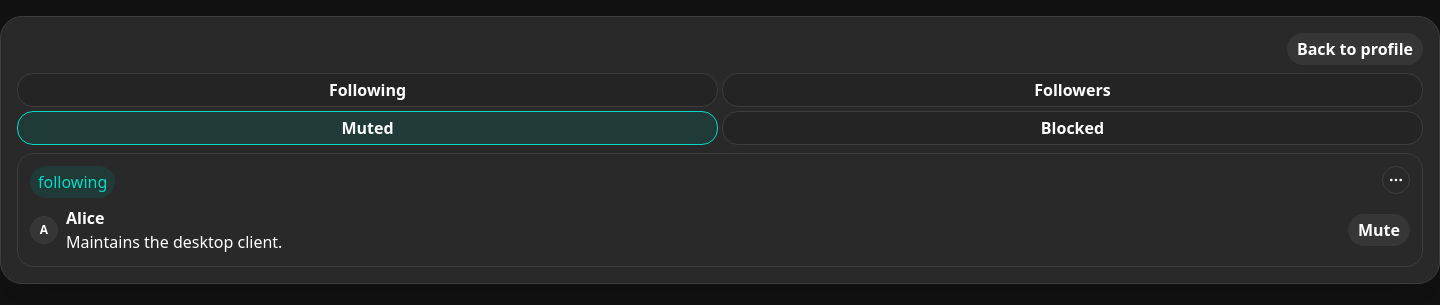
Test: the muted view keeps its own action beside the user information
This screenshot has width=1440, height=305.
Click the button "Mute" at (1379, 230), box [1348,214,1410,246]
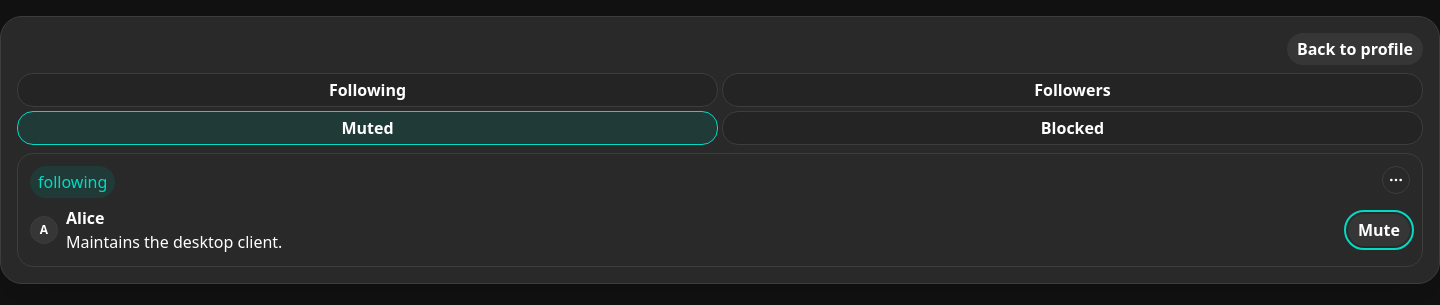
Click the button named "Actions for Alice" at (1396, 180), box [1382,166,1410,194]
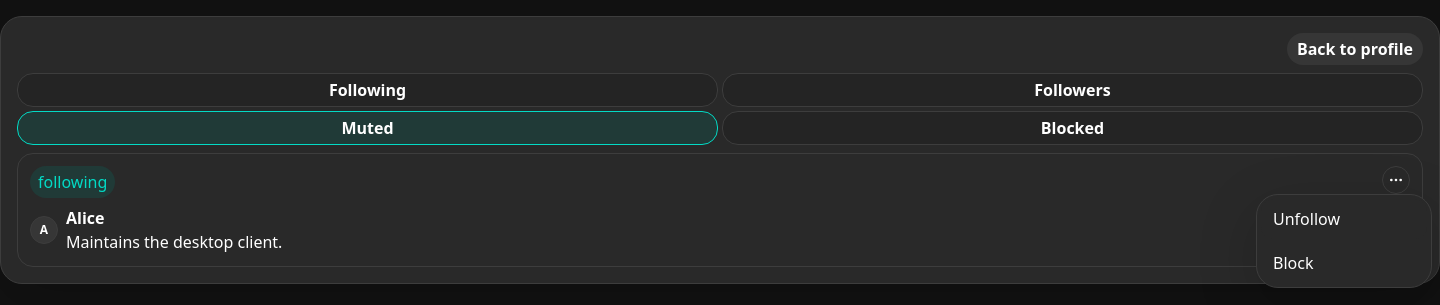
Check: the number of menu items is 2, box [1261,199,1427,239]; [1261,243,1427,283]
